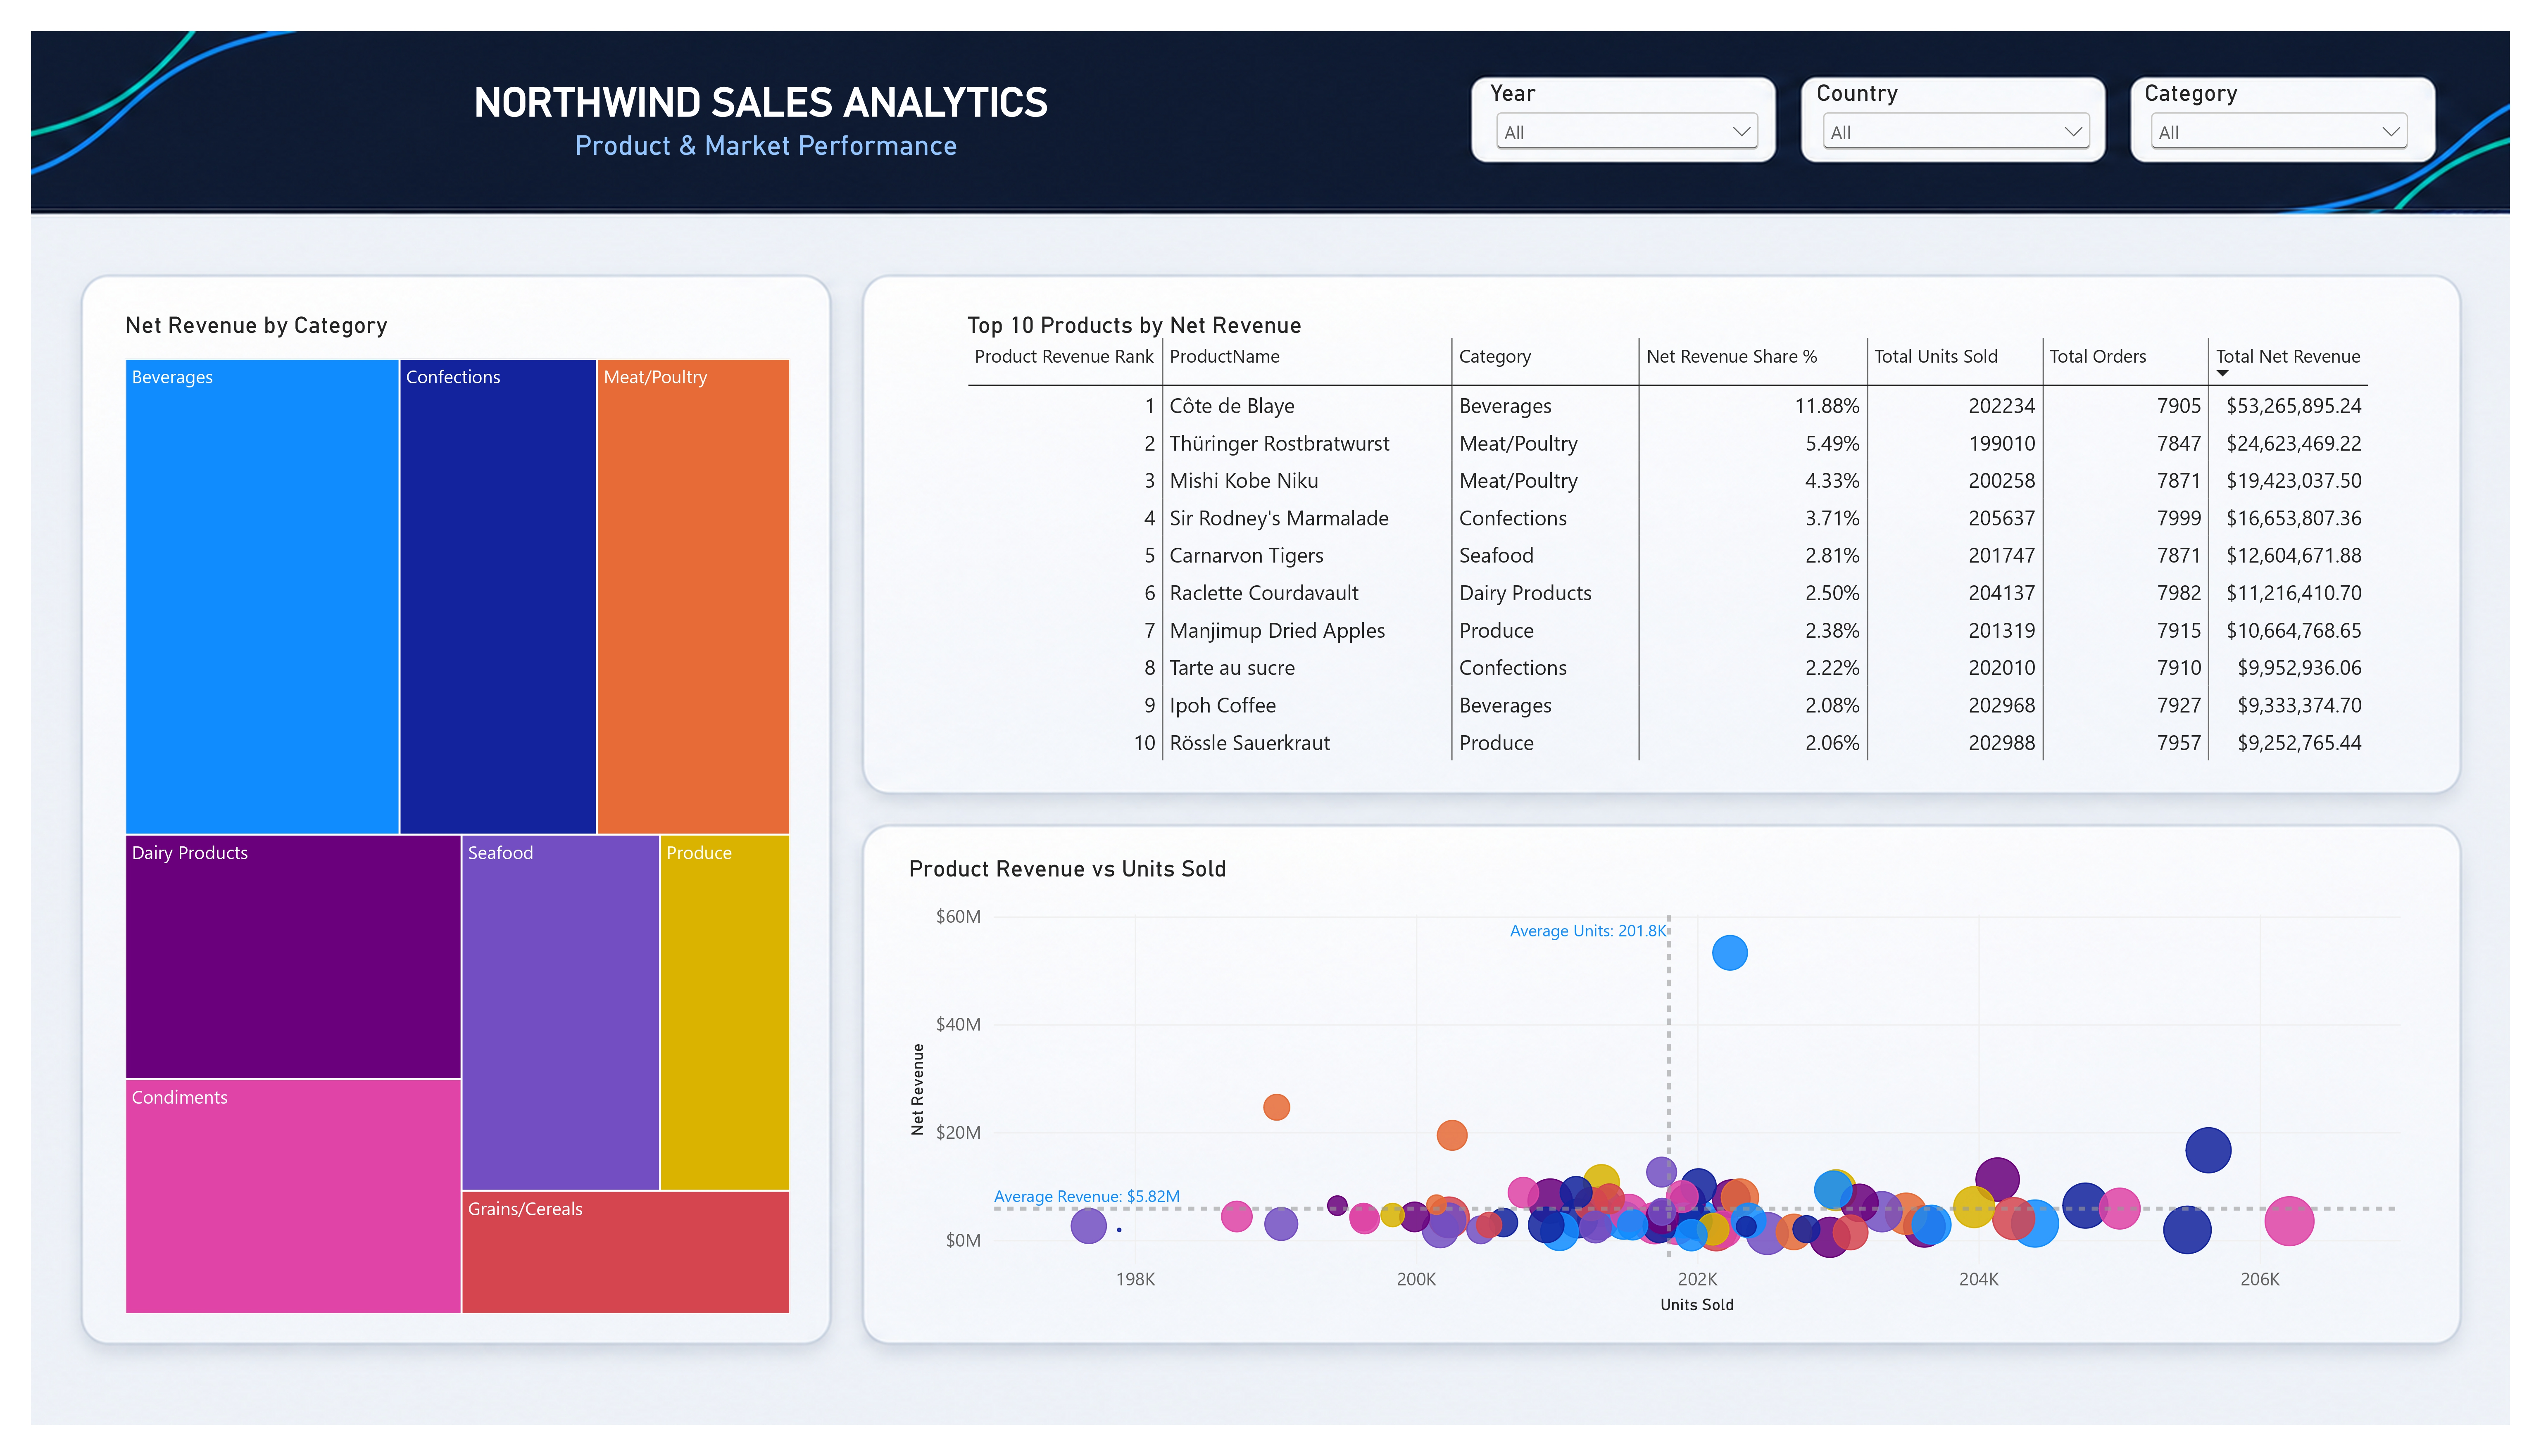

The dashboard page shown, as its layout file describes it:
{"tool":"powerbi","page":{"name":"Product & Market Performance","canvas":[1920,1080],"ordinal":1},"visuals":[{"type":"treemap","title":"Net Revenue by Category","fields":{"Group":["DimProduct.CategoryName"],"Values":["_Measures.Total Net Revenue"]},"box":[57.1,202.9,547.1,807.1],"z":0},{"type":"tableEx","title":"Top 10 Products by Net Revenue","fields":{"Values":["_Measures.Product Revenue Rank","DimProduct.ProductName","_Measures.Product Category Label","_Measures.Product Revenue Share %","_Measures.Total Units Sold","_Measures.Total Orders","_Measures.Total Net Revenue"]},"box":[708.6,202.9,1137.1,380],"z":1000},{"type":"scatterChart","title":"Product Revenue vs Units Sold","fields":{"Category":["DimProduct.ProductName"],"Series":["DimProduct.CategoryName"],"Size":["_Measures.Total Orders"],"X":["_Measures.Total Units Sold"],"Y":["_Measures.Total Net Revenue"]},"box":[664.3,624.3,1202.9,385.7],"z":2000},{"type":"slicer","title":"Year","fields":{"Values":["DimDate.Year"]},"box":[1130,37.1,212.9,94.3],"z":3000},{"type":"slicer","title":"Country","fields":{"Values":["DimCustomer.CustomerCountry"]},"box":[1382.9,37.1,217.1,77.1],"z":4000},{"type":"slicer","title":"Category","fields":{"Values":["DimProduct.CategoryName"]},"box":[1637.1,37.1,208.6,77.1],"z":5000},{"type":"textbox","title":"Product & Market Performance","box":[421.4,75.7,322.9,34.3],"z":6000},{"type":"textbox","title":"NORTHWIND SALES ANALYTICS","box":[343.3,36.7,478.3,38.3],"z":7000}]}

Visuals, with their boxes on the page's 1920x1080 design canvas (x1, y1, x2, y2). These are canvas units, not pixel positions in the 2541x1456 screenshot, which may show the page scaled, cropped or inside an application window:
"Net Revenue by Category" treemap: <box>57,203,604,1010</box>
"Top 10 Products by Net Revenue" tableEx: <box>709,203,1846,583</box>
"Product Revenue vs Units Sold" scatterChart: <box>664,624,1867,1010</box>
"Year" slicer: <box>1130,37,1343,131</box>
"Country" slicer: <box>1383,37,1600,114</box>
"Category" slicer: <box>1637,37,1846,114</box>
"Product & Market Performance" textbox: <box>421,76,744,110</box>
"NORTHWIND SALES ANALYTICS" textbox: <box>343,37,822,75</box>
